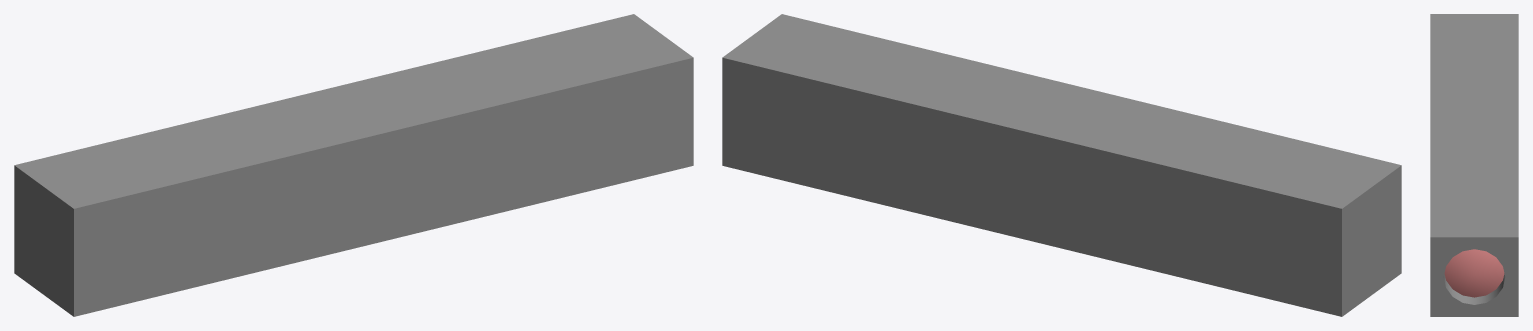
The model's file is SM_Launcher_4x2sx2s.gltf.
The picture shows the model from 3 angles, left to right: view 1: azimuth 30°, elevation 25°; view 2: azimuth 150°, elevation 25°; view 3: azimuth 270°, elevation 25°; orthographic projection. The views are drawn at different scales.
Parts seen in each view (by area): view 1: SM_Launcher_4x2sx2s; view 2: SM_Launcher_4x2sx2s; view 3: SM_Launcher_4x2sx2s.
Boxes of the visible parts, <box> form: SM_Launcher_4x2sx2s: <box>14,14,693,316</box>; SM_Launcher_4x2sx2s: <box>722,14,1401,316</box>; SM_Launcher_4x2sx2s: <box>1430,14,1518,316</box>.
Size of the model in its own units: 1.2 by 0.2 by 0.2.
